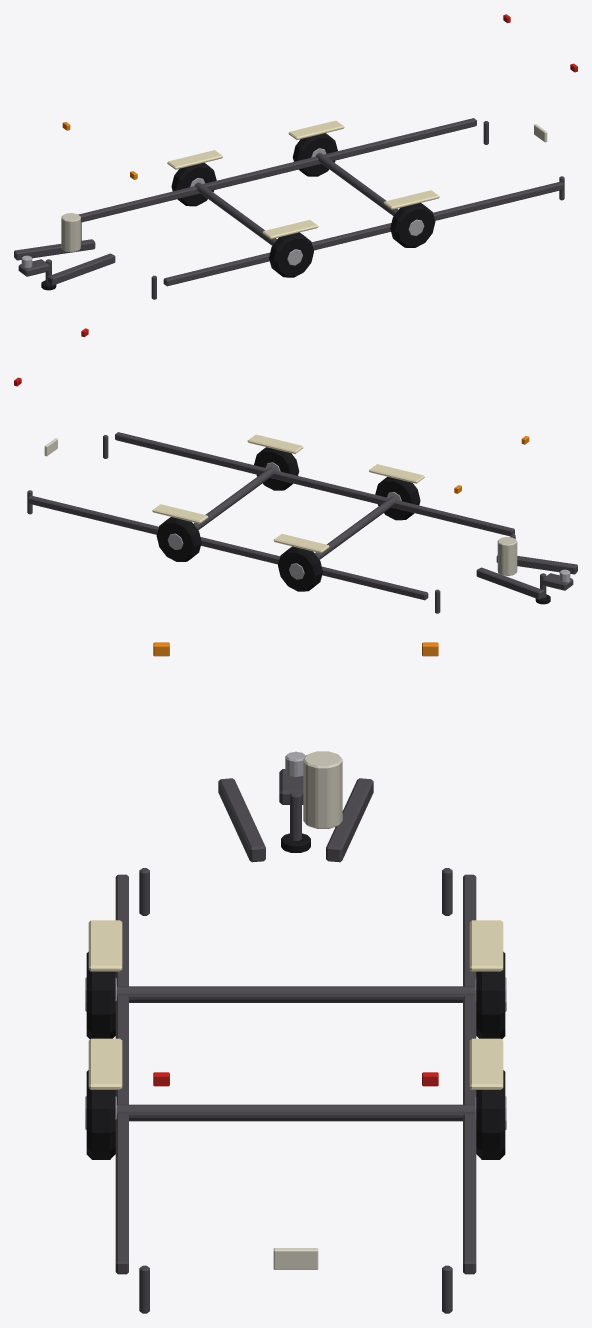
The model's file is trailer_rig_neighbor.glb.
3 views of the same model, one above another, from view 1: azimuth 30°, elevation 25°; view 2: azimuth 150°, elevation 25°; view 3: azimuth 270°, elevation 25° (orthographic). The views are drawn at different scales.
Parts seen in each view (by area): view 1: trailer_rig_neighbor; view 2: trailer_rig_neighbor; view 3: trailer_rig_neighbor.
Boxes of the visible parts, x1,y1,x2,y2 form: trailer_rig_neighbor: [14, 14, 577, 299]; trailer_rig_neighbor: [14, 328, 577, 613]; trailer_rig_neighbor: [85, 642, 506, 1313].
Size of the model in its own units: 10.73 by 2.51 by 3.76.
